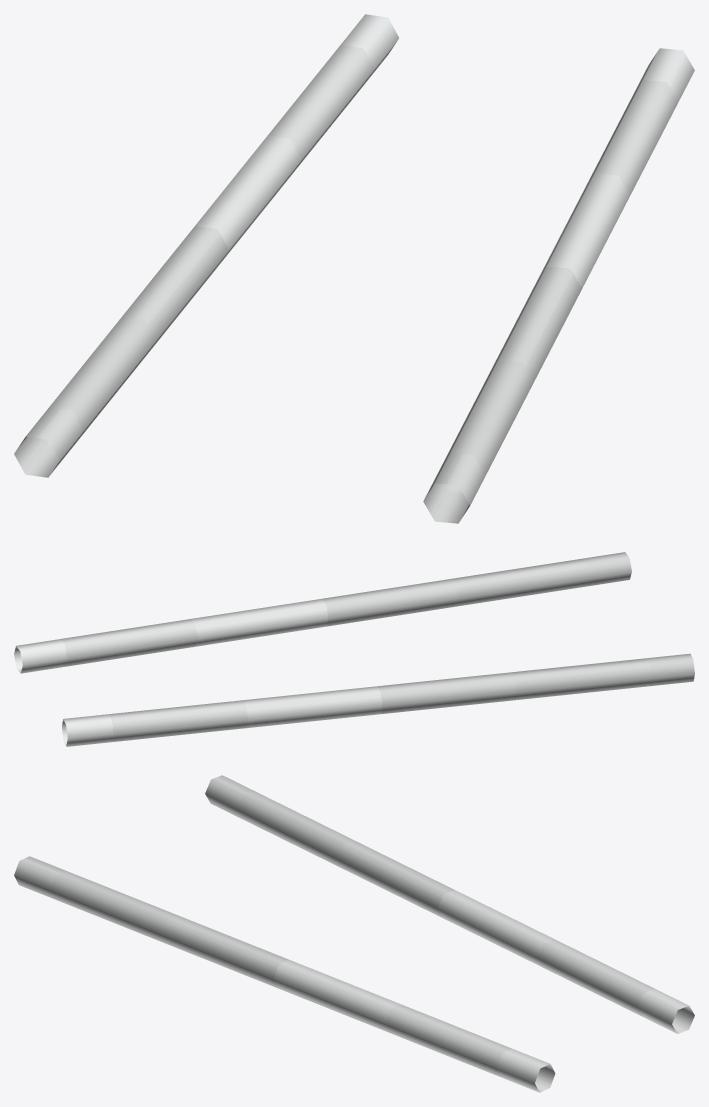
Rendered from nycsignalarm_diagonal8_c13.obj.
3 renders of one model, top to bottom at view 1: azimuth 30°, elevation 25°; view 2: azimuth 150°, elevation 25°; view 3: azimuth 270°, elevation 25°, orthographic. The views are drawn at different scales.
Parts seen in each view (by area): view 1: nycsignalarm_diagonal8_c13; view 2: nycsignalarm_diagonal8_c13; view 3: nycsignalarm_diagonal8_c13.
Boxes of the visible parts, x1=… form: nycsignalarm_diagonal8_c13: x1=14, y1=14, x2=694, y2=523; nycsignalarm_diagonal8_c13: x1=14, y1=552, x2=694, y2=746; nycsignalarm_diagonal8_c13: x1=14, y1=775, x2=694, y2=1092.
Bounding box in the file's own units: 1.38 × 0.0773 × 1.38.
